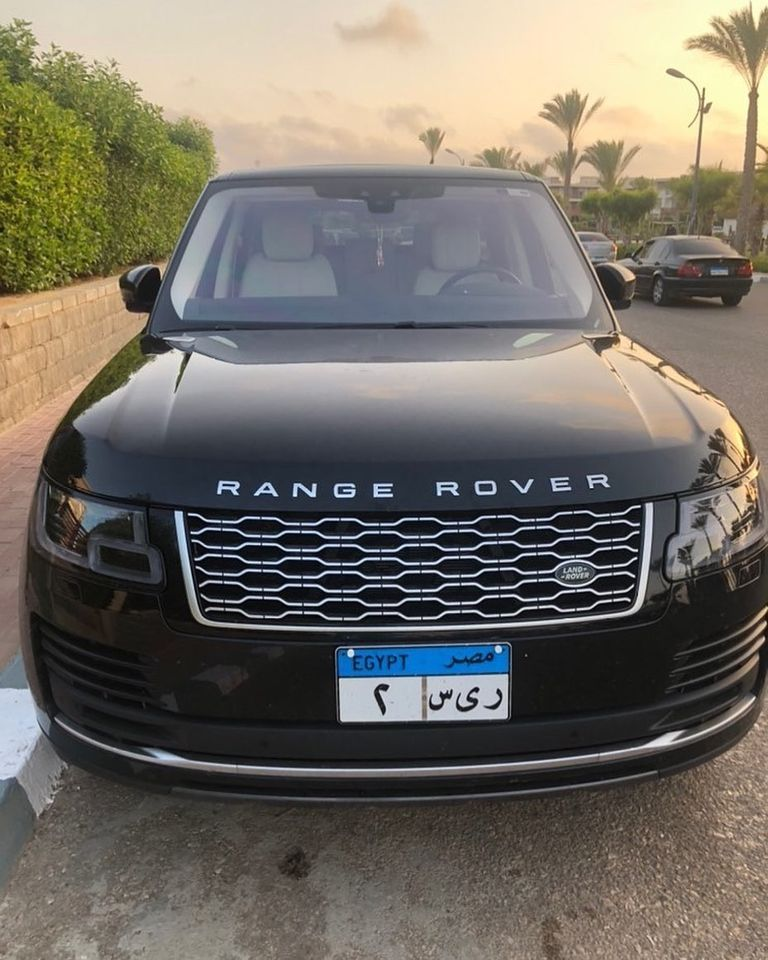carpl: (337, 657, 515, 720)
